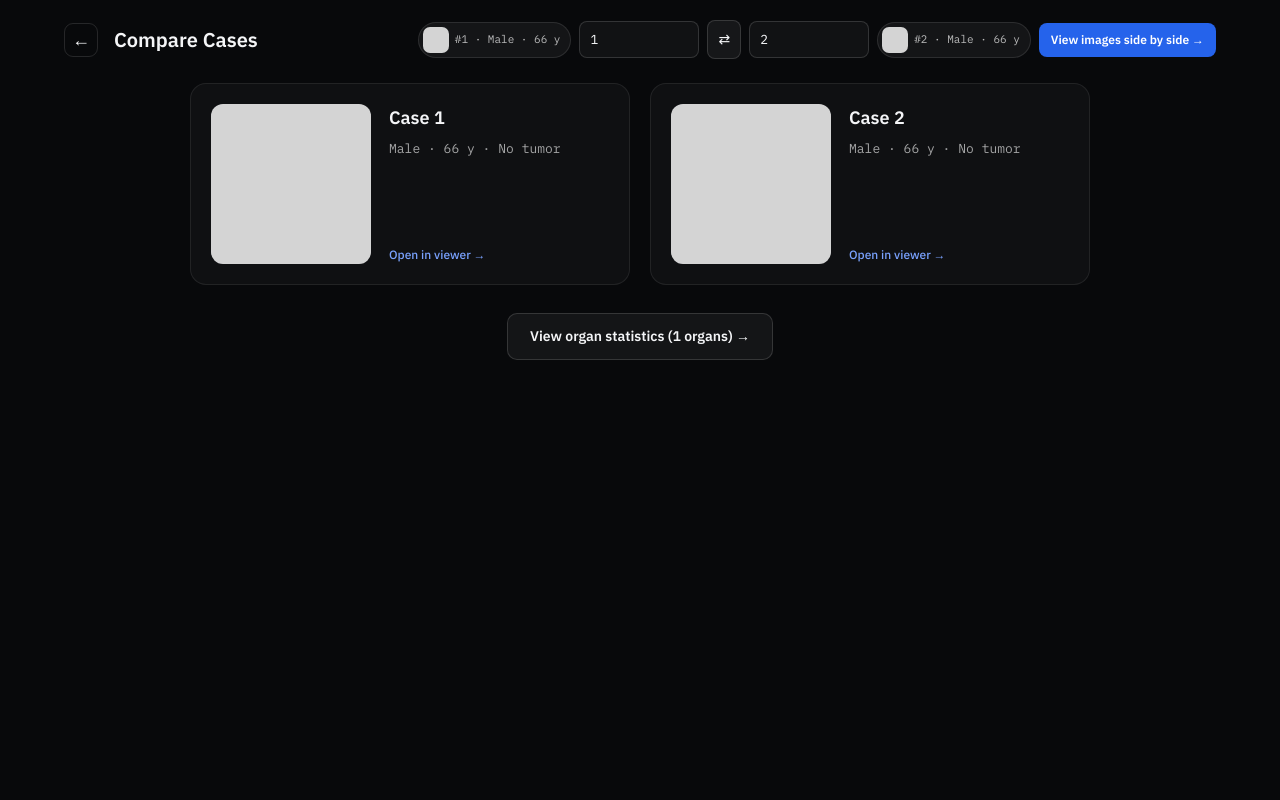
Test case: ComparePage › shows two cases' organ volumes side by side with a delta
The image size is (1280, 800).
The stats table now lives in a popup — open it first.
Click the button "View organ statistics (1 organs) →" at coordinates (640, 336), box [507, 313, 773, 360]
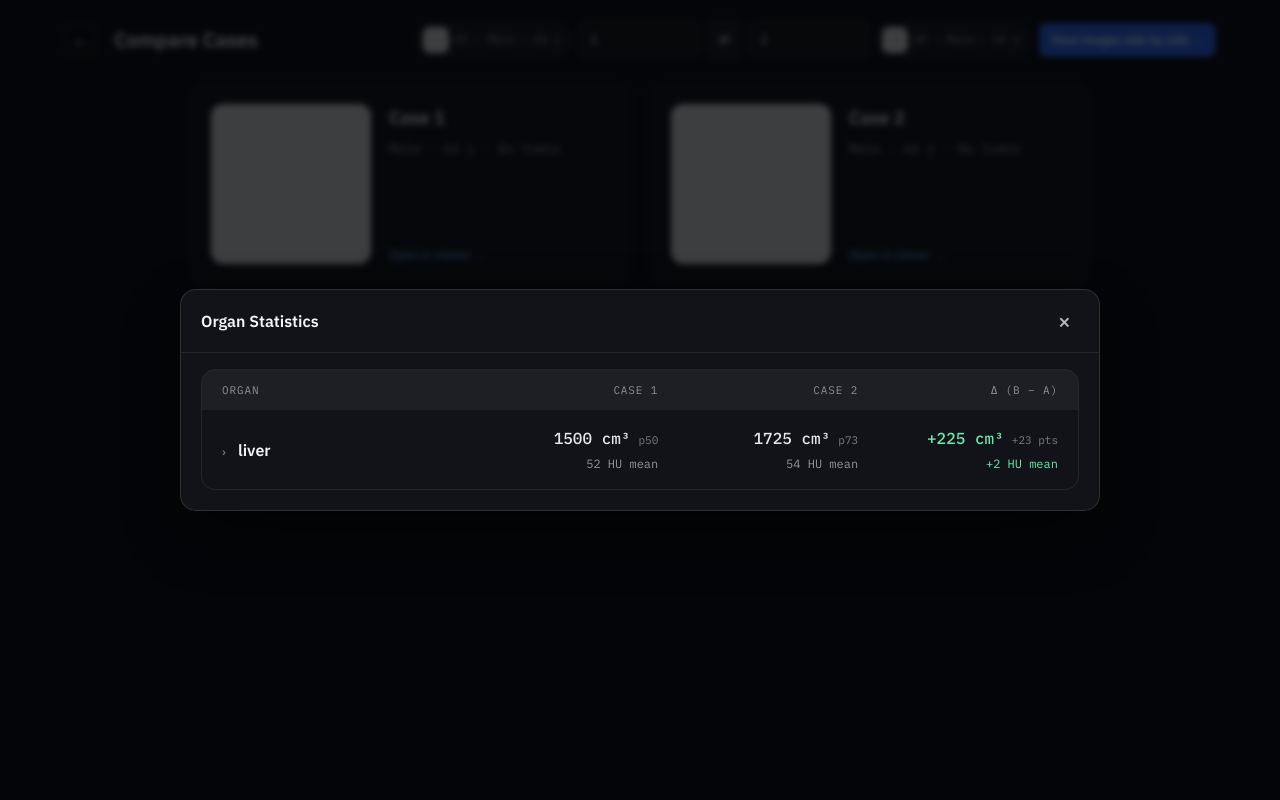
expect the text "1500 cm³" is shown: met, box [554, 426, 630, 450]
expect the text "1725 cm³" is shown: met, box [754, 426, 830, 450]
expect the text "+225 cm³" is shown: met, box [927, 426, 1004, 450]
